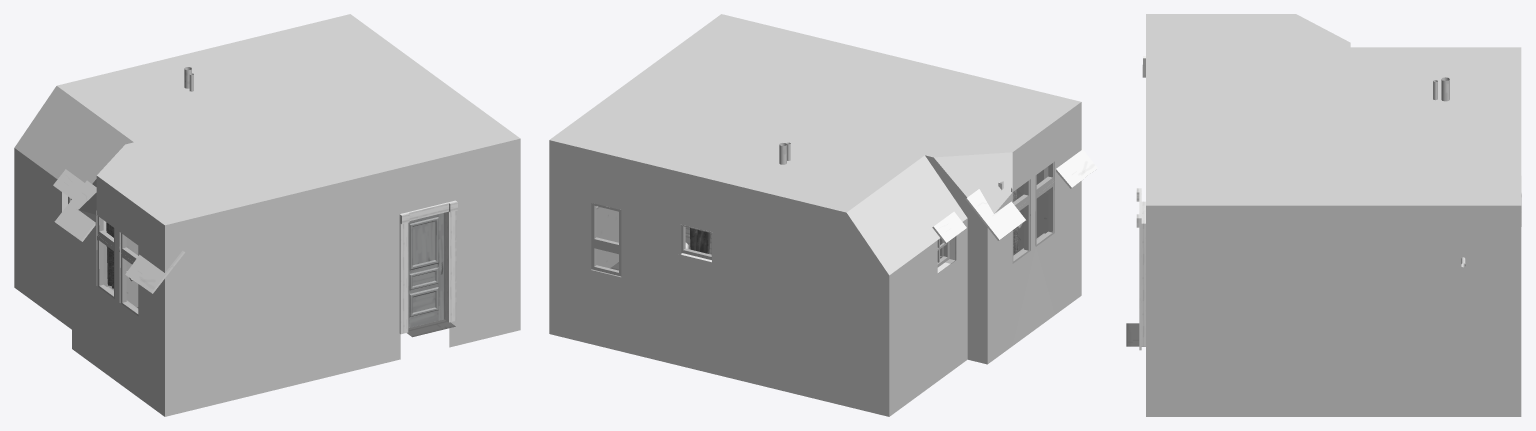
Rendered from Apartment.fbx.
The picture shows the model from 3 angles, left to right: view 1: azimuth 30°, elevation 25°; view 2: azimuth 150°, elevation 25°; view 3: azimuth 270°, elevation 25°; orthographic projection. The views are drawn at different scales.
Visible parts, largest first — view 1: Util_SunBlock, env_Walls, obj_FrontDoor, env_DoorFrame, env_LivingRoomWindow.000, env_LivingRoomWindow.001; view 2: Util_SunBlock, env_Walls, env_KitchenWindow.000, env_LivingRoomWindow.001, env_LivingRoomWindow.000; view 3: Util_SunBlock, env_DoorFrame, env_Walls.
Part boxes in pixels (bbox=[...]): Util_SunBlock: bbox=[14, 14, 520, 416]; env_Walls: bbox=[53, 169, 455, 337]; obj_FrontDoor: bbox=[408, 212, 444, 327]; env_DoorFrame: bbox=[399, 200, 457, 334]; env_LivingRoomWindow.000: bbox=[97, 216, 119, 298]; env_LivingRoomWindow.001: bbox=[119, 233, 138, 316]; Util_SunBlock: bbox=[549, 14, 1081, 416]; env_Walls: bbox=[591, 148, 1097, 277]; env_KitchenWindow.000: bbox=[591, 203, 621, 276]; env_LivingRoomWindow.001: bbox=[1035, 162, 1054, 246]; env_LivingRoomWindow.000: bbox=[1011, 180, 1030, 263]; Util_SunBlock: bbox=[1146, 14, 1521, 416]; env_DoorFrame: bbox=[1136, 188, 1145, 350]; env_Walls: bbox=[1126, 56, 1521, 346].
Size of what is drawn, in the model's own units: 6.96 by 3.68 by 5.65.
